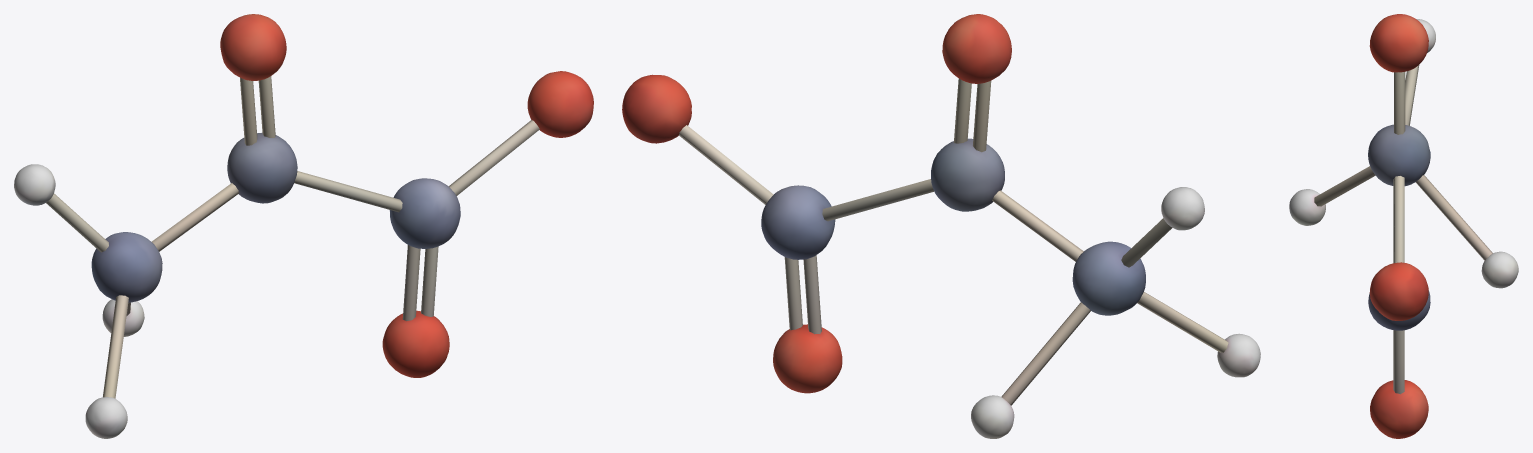
Rendered from pyruvate.glb.
The picture shows the model from 3 angles, left to right: view 1: azimuth 30°, elevation 25°; view 2: azimuth 150°, elevation 25°; view 3: azimuth 270°, elevation 25°; orthographic projection. The views are drawn at different scales.
Visible parts, largest first — view 1: pyruvate-carbon, pyruvate-oxygen, pyruvate-bonds, pyruvate-hydrogen; view 2: pyruvate-bonds, pyruvate-carbon, pyruvate-oxygen, pyruvate-hydrogen; view 3: pyruvate-oxygen, pyruvate-bonds, pyruvate-carbon, pyruvate-hydrogen.
Part boxes in pixels (x1,y1,x2,y2): pyruvate-carbon: (91,133,460,302); pyruvate-oxygen: (220,14,593,377); pyruvate-bonds: (46,76,539,398); pyruvate-hydrogen: (14,164,144,438); pyruvate-bonds: (679,78,1228,405); pyruvate-carbon: (761,138,1145,315); pyruvate-oxygen: (622,14,1011,393); pyruvate-hydrogen: (971,187,1260,438); pyruvate-oxygen: (1369,14,1428,438); pyruvate-bonds: (1314,65,1492,394); pyruvate-carbon: (1368,124,1430,330); pyruvate-hydrogen: (1289,19,1518,288).
Size of what is drawn, in the model's own units: 3.11 by 2.1 by 1.25.
